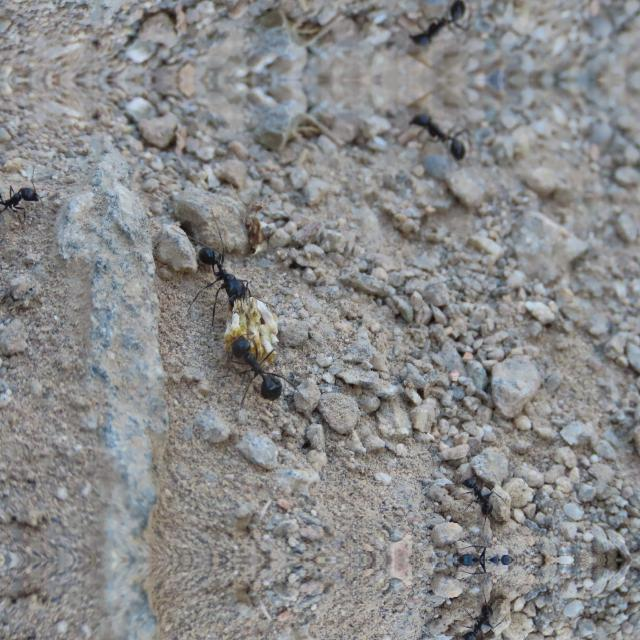Messor: (189, 238, 251, 320), (222, 334, 288, 404), (410, 106, 470, 162), (410, 0, 470, 54), (0, 182, 44, 230)
